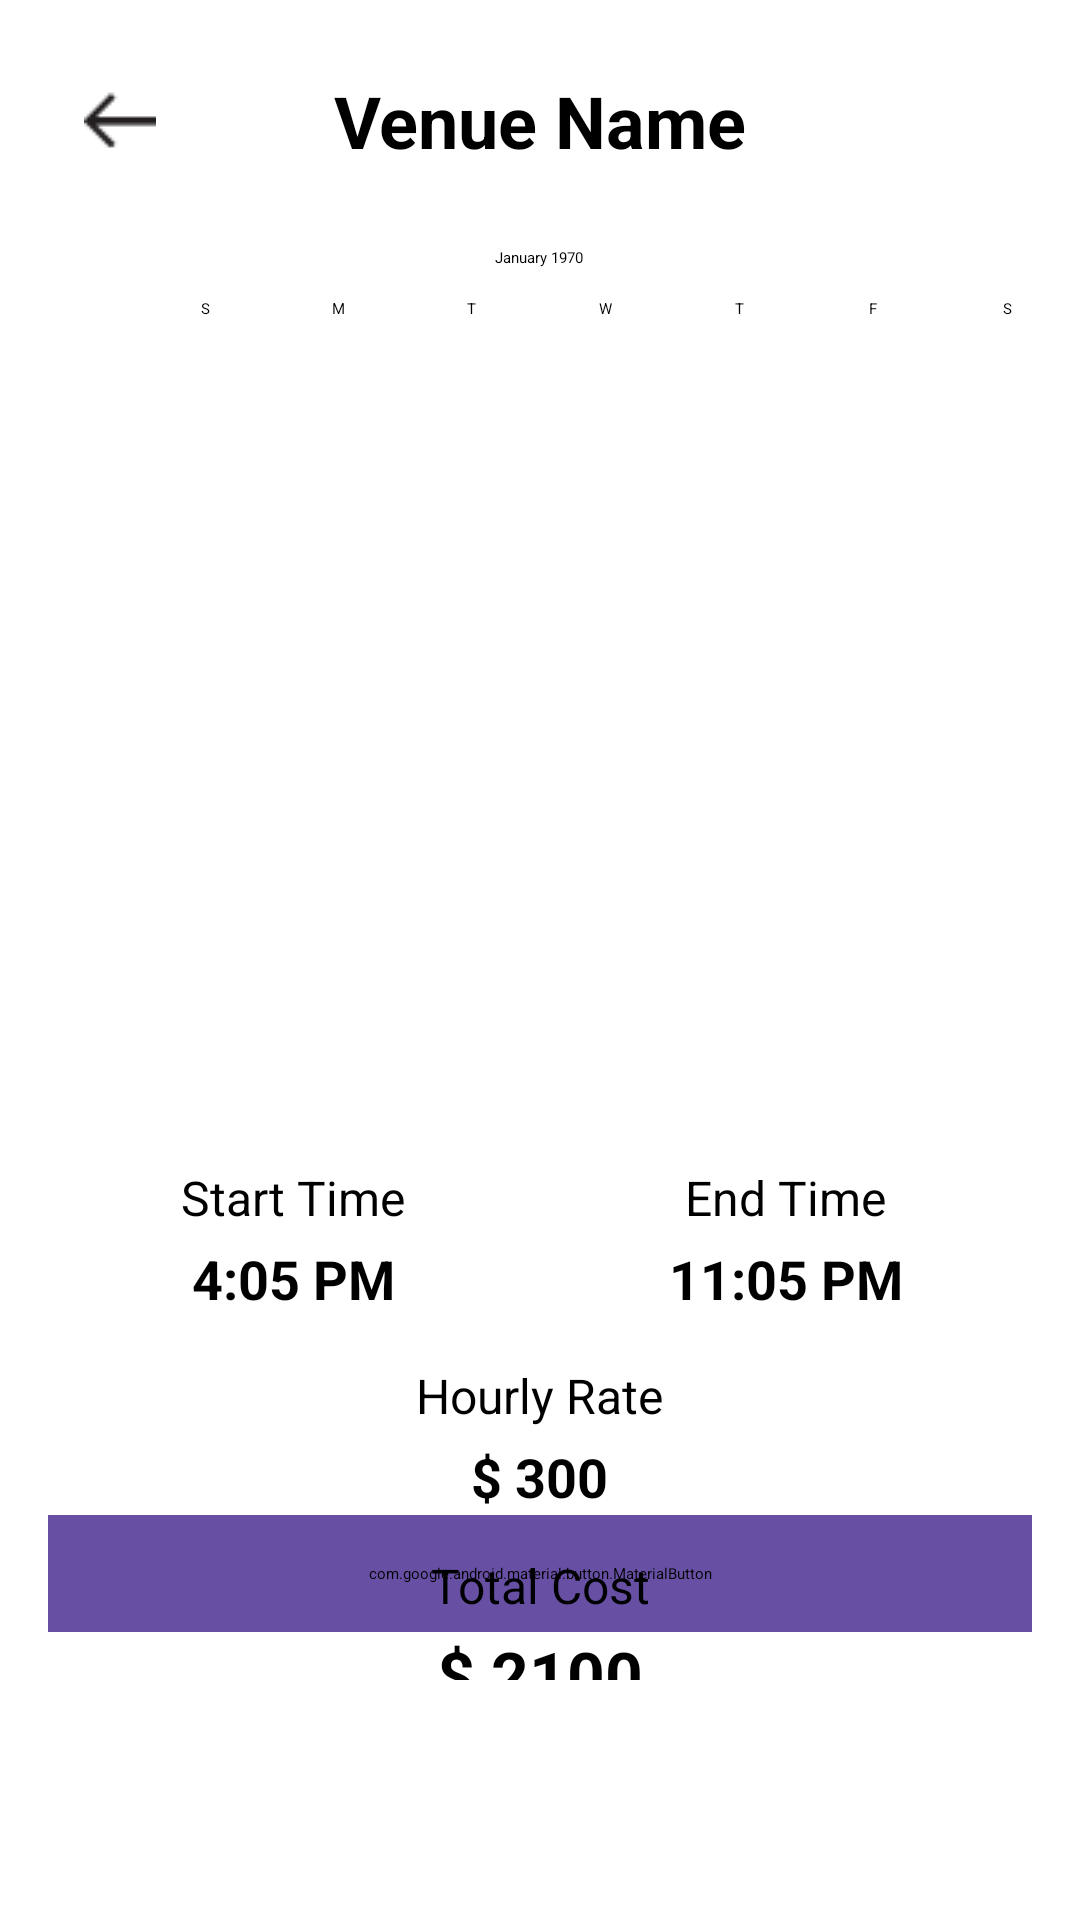

Where to tap for icons on this 1080px x 1920px app screen, as (x=x, y=y):
Back: (x=120, y=120)
